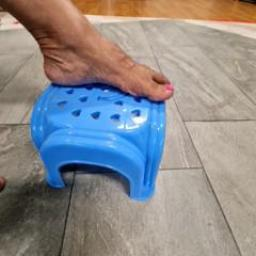Medial View -Left Foot-: (17, 20, 182, 102)
